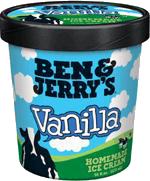grozi_118: (0, 0, 150, 181)
